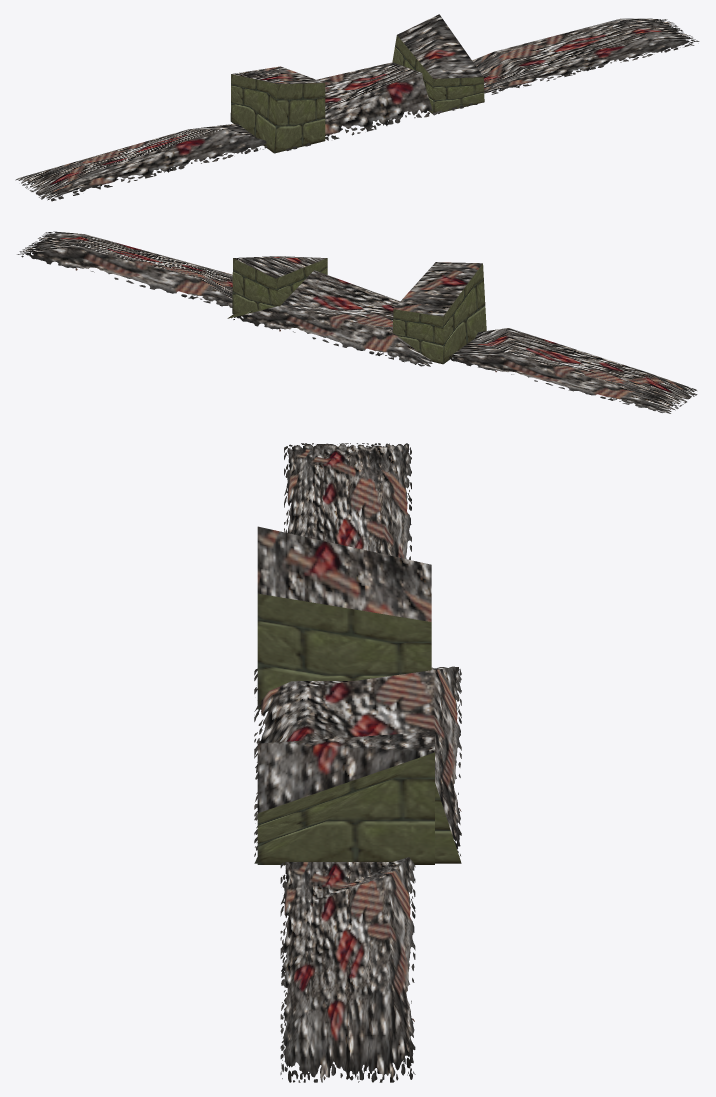
Rendered from l_palacegate_dam.glb.
3 views of the same model, one above another, from view 1: azimuth 30°, elevation 25°; view 2: azimuth 150°, elevation 25°; view 3: azimuth 270°, elevation 25° (orthographic). The views are drawn at different scales.
Parts seen in each view (by area): view 1: Palace_gateDAM; view 2: Palace_gateDAM; view 3: Palace_gateDAM.
Boxes of the visible parts, x1,y1,x2,y2 form: Palace_gateDAM: [15, 14, 699, 201]; Palace_gateDAM: [17, 231, 697, 413]; Palace_gateDAM: [254, 443, 461, 1082].
Bounding box in the file's own units: 58.34 × 5.82 × 7.99.
Materials: 2 (2 with a texture image).
